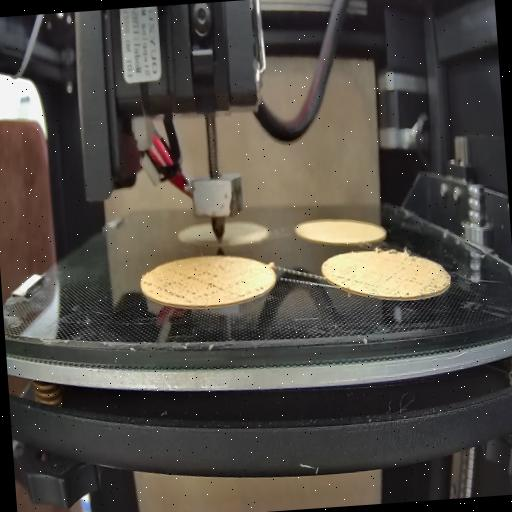under_extrusion: (158, 263, 223, 303), (383, 258, 438, 299), (230, 278, 268, 299), (336, 272, 369, 289)
